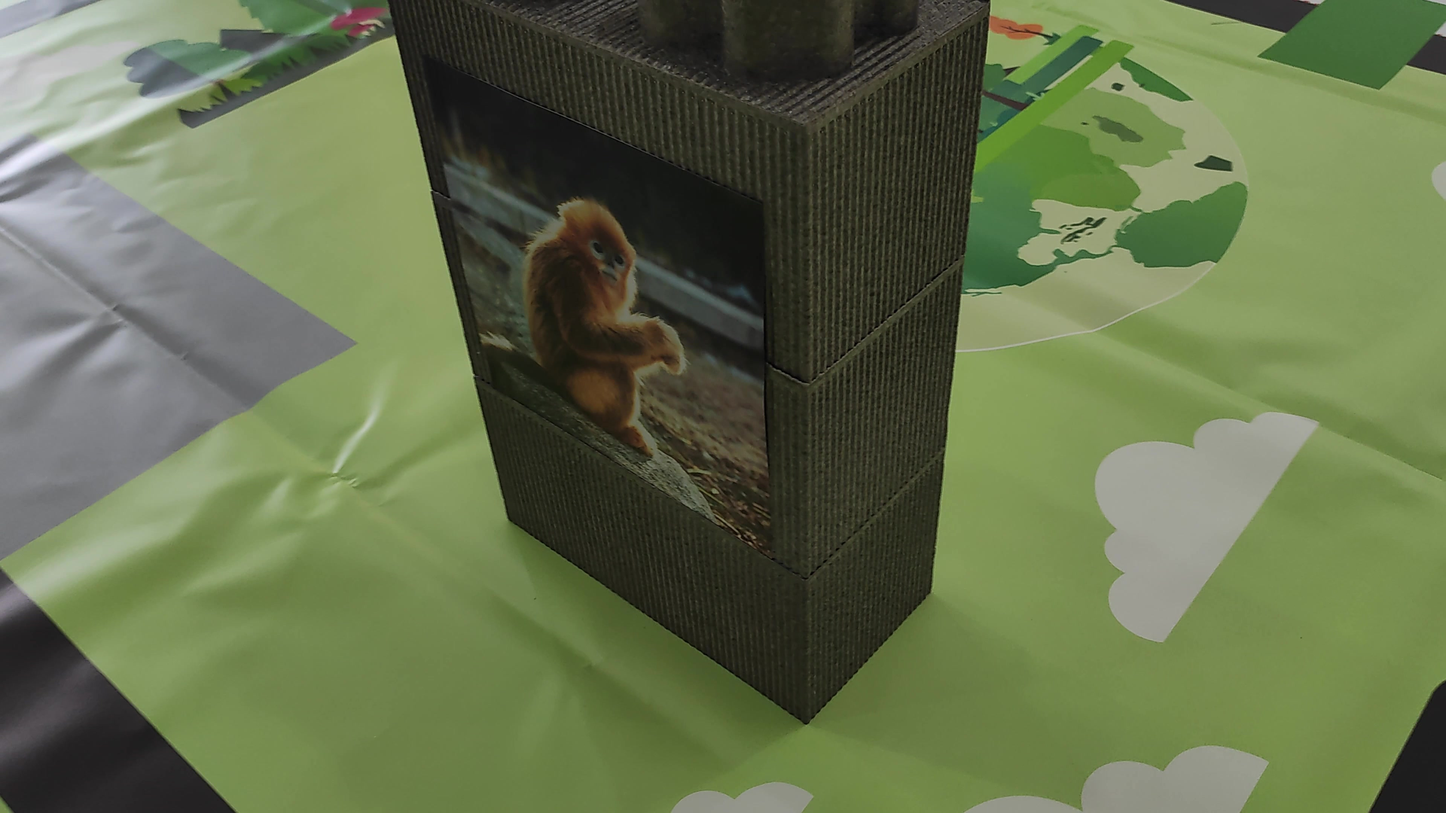monkey: (482, 167, 775, 454)
